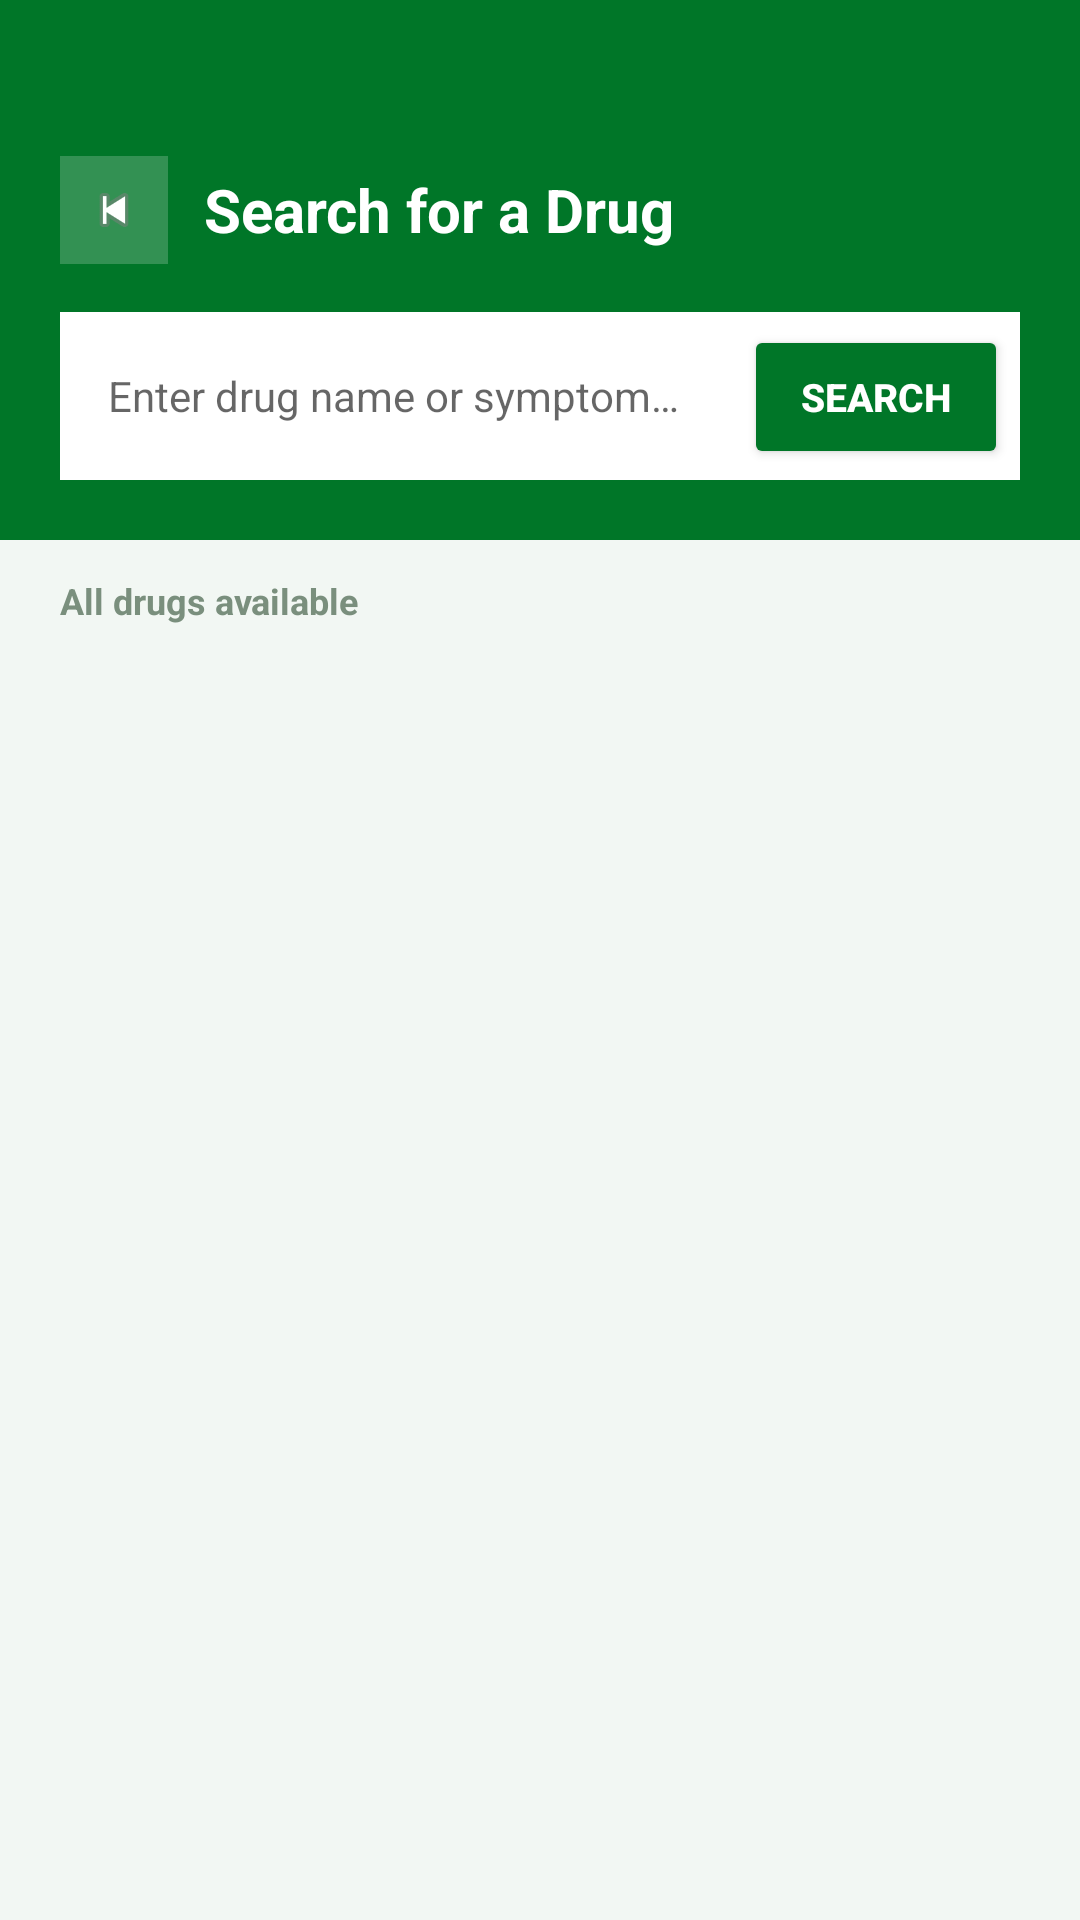

Where icons sit on this 1080px x 1920px app screen, as (x1,y1,x2,y2):
previous: (60,156,168,264)
